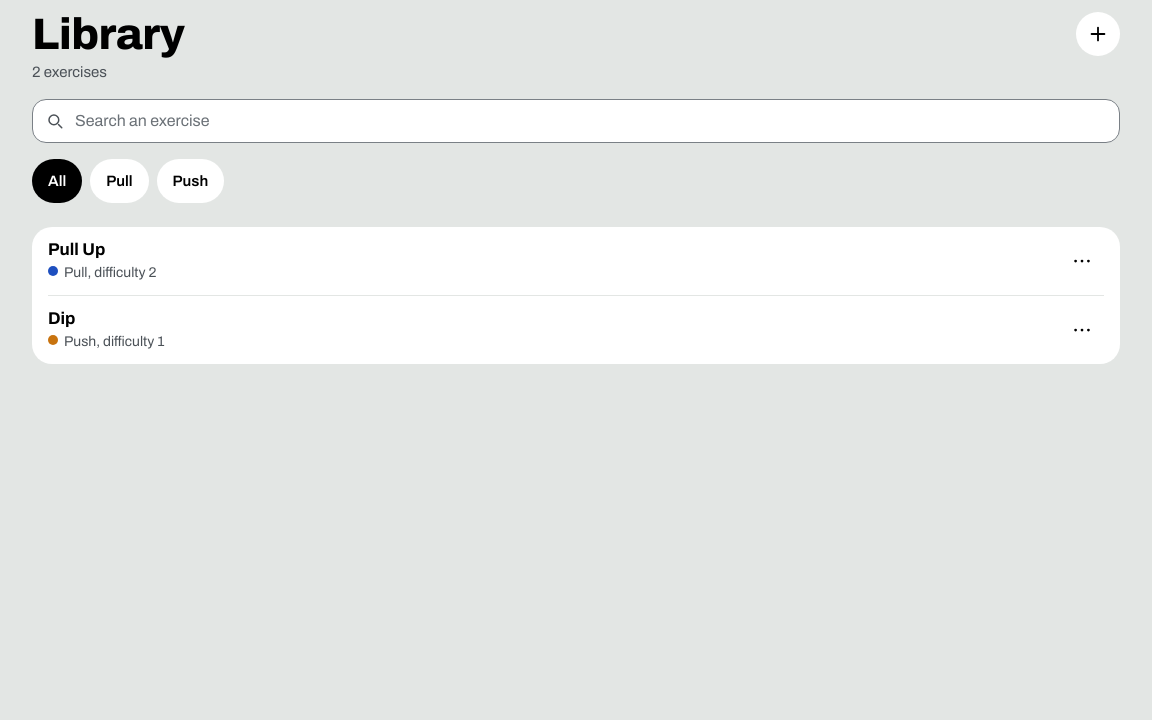
Test case: ExerciseLibrary › deleting an exercise › deletes an unused exercise once the dialog is confirmed, and closes
Click the button named "Options for Pull Up": x=1082, y=261 [1060,239,1104,283]
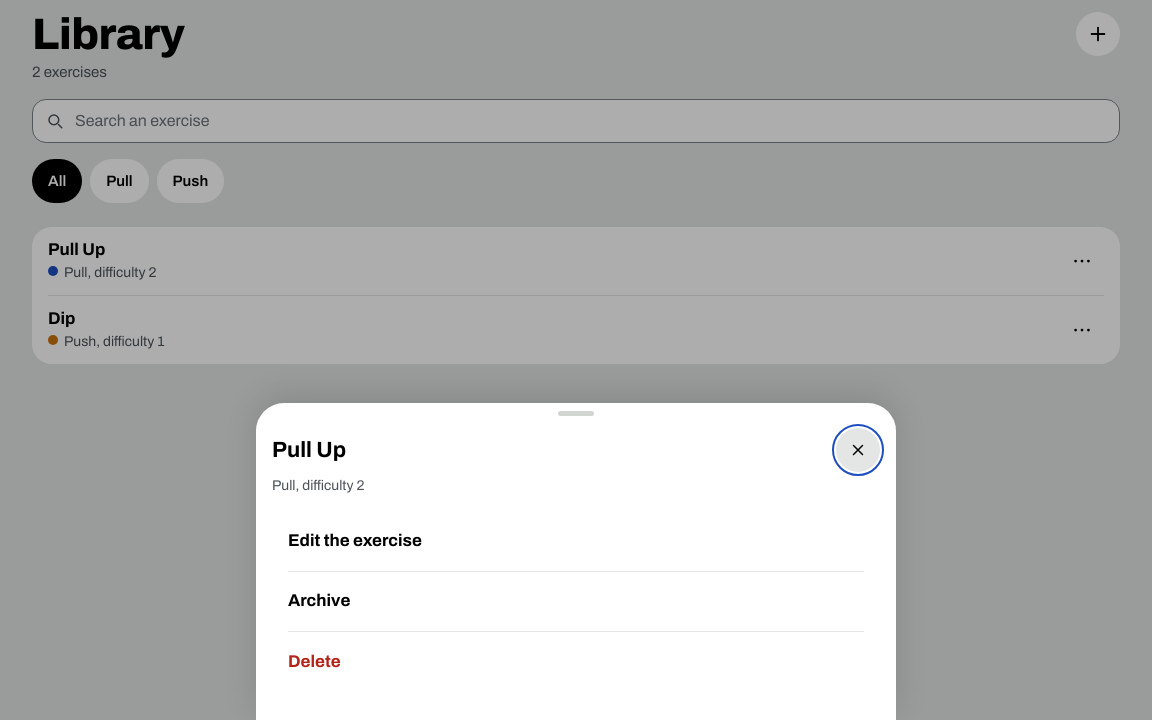
Click the button with aria-label "Delete Pull Up": x=314, y=661 [288,632,864,692]
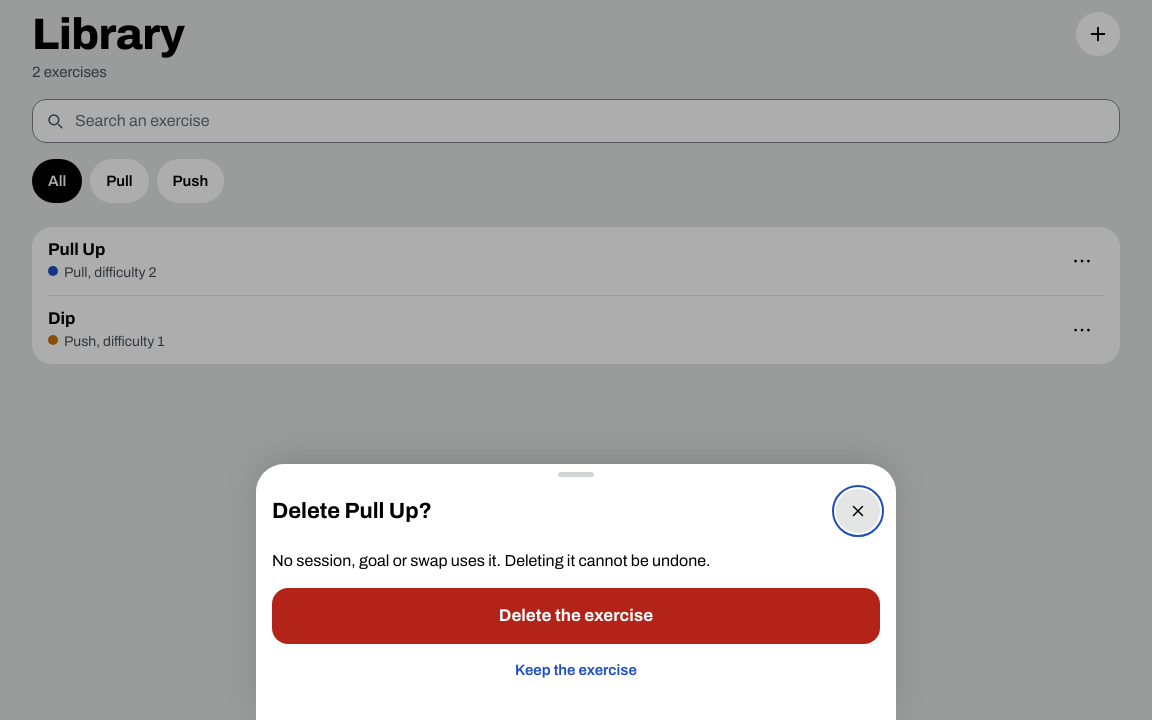
Click the button "Delete the exercise": x=576, y=616 [272,588,880,644]
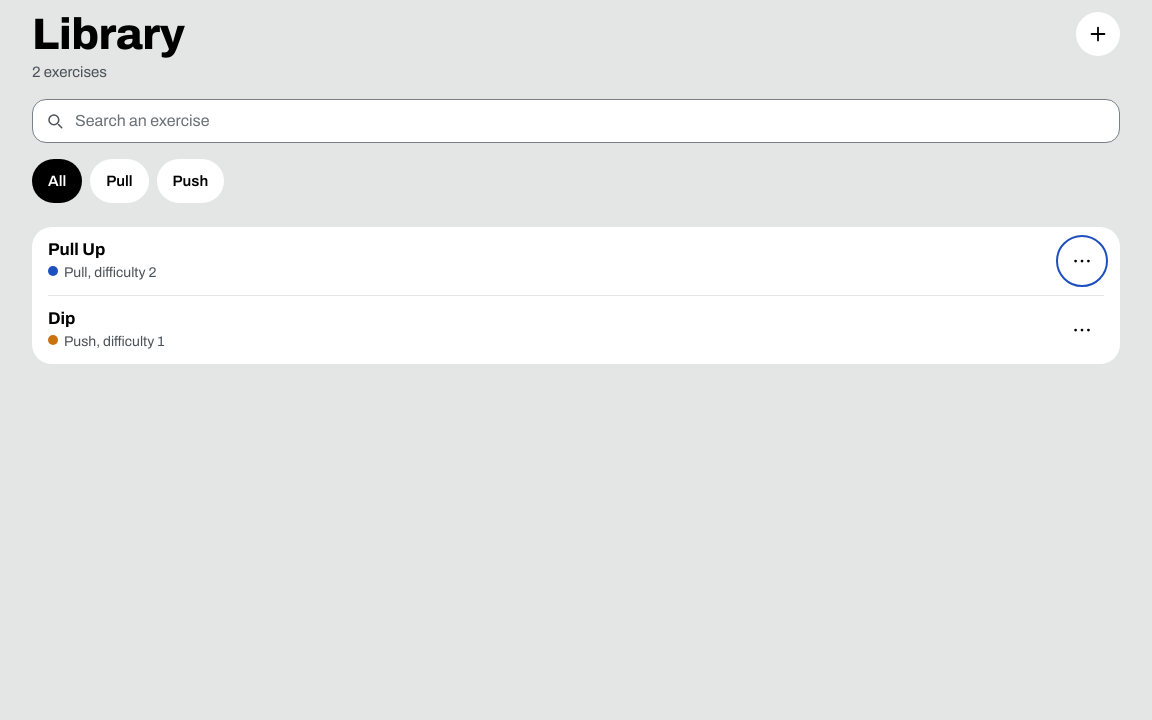
Now the heading "Delete Pull Up?" is gone
